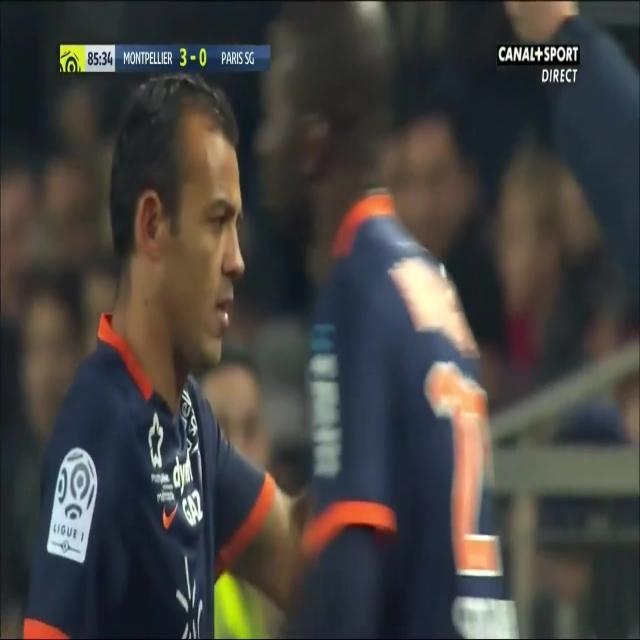Player: (250, 0, 524, 639), (18, 70, 310, 638)
